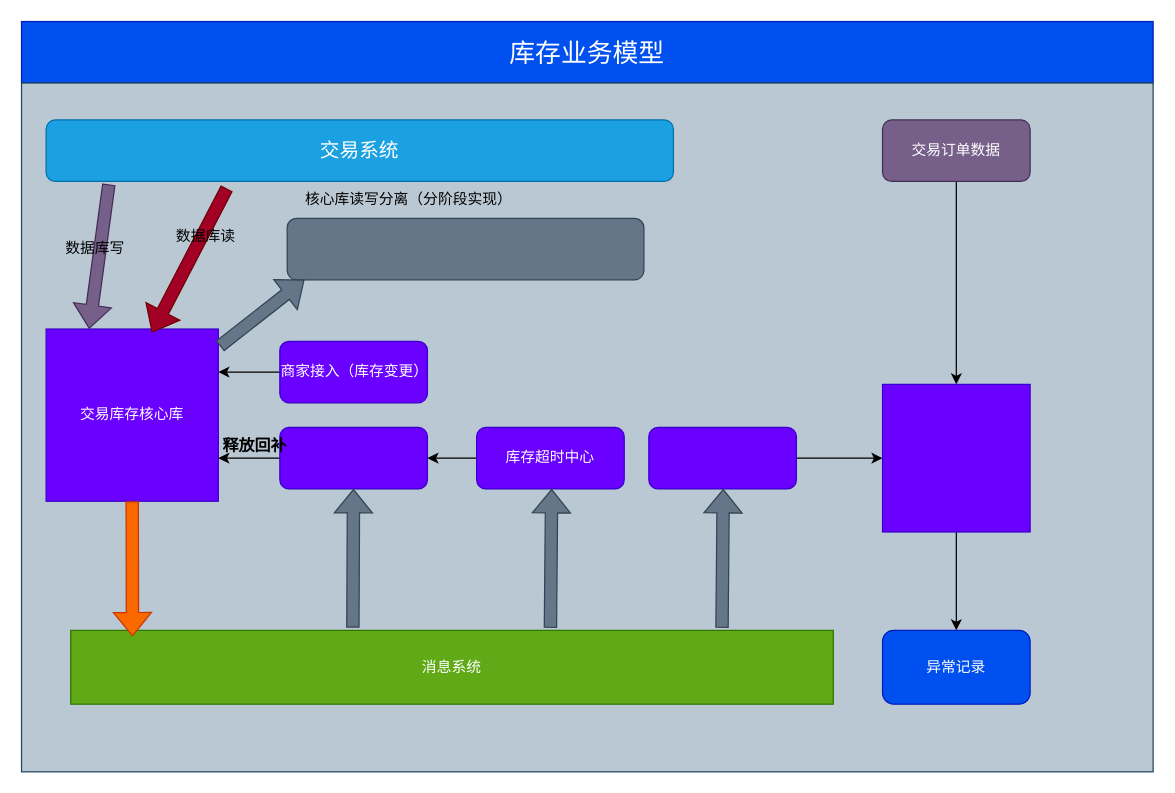
This 1175x793 diagram has some shape labels left out. The shapes that lost their labels are listed below. From the top down, each one's centre as x and y in pixels, then its label:
the point at 465,248: 库存数据缓存
the point at 353,457: 库存任务调度
the point at 722,457: 库存消息（变更记录）
the point at 955,457: 交易库存对账及超卖审计
